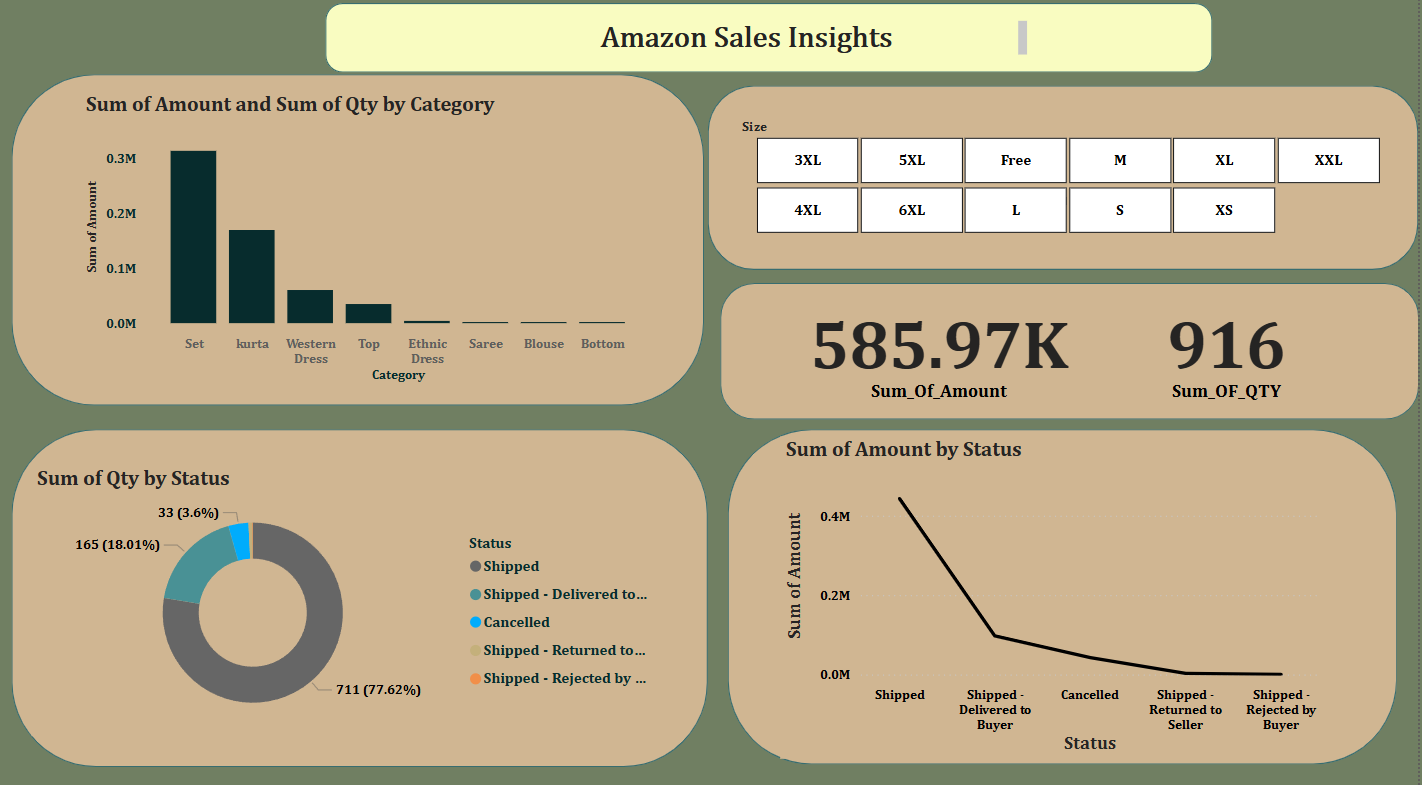

Layout of this report page (visuals, bound fields, positions):
{"tool":"powerbi","page":{"name":"Page 1","canvas":[1280,720],"ordinal":0},"visuals":[{"type":"shape","box":[11.6,73.3,624.4,298.8],"z":0,"group":"g4"},{"type":"shape","box":[650,261.6,630.2,123.3],"z":0,"group":"g5"},{"type":"card","fields":{"Values":["Amazon Sale Report.Sum_OF_QTY"]},"box":[981.8,265.9,250.4,110.2],"z":0,"group":"g2"},{"type":"shape","box":[11.6,393,627.9,304.7],"z":0,"group":"g3"},{"type":"group","id":"g1","title":"Group 1","box":[657,393,603.5,302.3],"z":0},{"type":"shape","box":[657,393,603.5,302.3],"z":0,"group":"g1"},{"type":"columnChart","fields":{"Y":["Sum(Amazon Sale Report.Amount)"],"Category":["Amazon Sale Report.Category"]},"box":[74.1,89,518.3,266.5],"z":1000,"group":"g4"},{"type":"group","id":"g2","title":"Group 4","box":[713.7,265.9,518.4,110.2],"z":1000,"group":"g5"},{"type":"card","fields":{"Values":["Amazon Sale Report.Sum_Of_Amount"]},"box":[713.7,265.9,268.1,110.2],"z":1000,"group":"g2"},{"type":"group","id":"g3","title":"Group 3","box":[11.6,393,627.9,304.7],"z":1000},{"type":"lineChart","fields":{"Y":["Sum(Amazon Sale Report.Amount)"],"Category":["Amazon Sale Report.Status"]},"box":[704.1,399.8,497.1,290],"z":1000,"group":"g1"},{"type":"donutChart","fields":{"Category":["Amazon Sale Report.Status"],"Y":["Sum(Amazon Sale Report.Qty)"]},"box":[29.5,425.5,567.4,244.2],"z":1000,"group":"g3"},{"type":"group","id":"g4","title":"Group 2","box":[11.6,73.3,624.4,298.8],"z":2000},{"type":"shape","box":[639.5,83.7,640.7,166.3],"z":2000},{"type":"slicer","fields":{"Values":["Amazon Sale Report.Size"]},"box":[657,108.1,611.6,115.1],"z":3000},{"type":"group","id":"g5","title":"Group 5","box":[650,261.6,630.2,123.3],"z":3000},{"type":"shape","box":[294.2,9.3,800,62.8],"z":4000},{"type":"textbox","box":[423.3,19.8,508.1,40.7],"z":5000}]}

Visuals, with their boxes in screenshot pixels (x1, y1, x2, y2), scaled from the page's 1280x720 canvas onto the 1422x785 screenshot:
shape: left=13, top=80, right=707, bottom=406
shape: left=722, top=285, right=1421, bottom=420
card - Amazon Sale Report.Sum_OF_QTY: left=1091, top=290, right=1369, bottom=410
shape: left=13, top=428, right=710, bottom=761
"Group 1" group: left=730, top=428, right=1400, bottom=758
shape: left=730, top=428, right=1400, bottom=758
columnChart - Sum(Amazon Sale Report.Amount) x Amazon Sale Report.Category: left=82, top=97, right=658, bottom=388
"Group 4" group: left=793, top=290, right=1369, bottom=410
card - Amazon Sale Report.Sum_Of_Amount: left=793, top=290, right=1091, bottom=410
"Group 3" group: left=13, top=428, right=710, bottom=761
lineChart - Sum(Amazon Sale Report.Amount) x Amazon Sale Report.Status: left=782, top=436, right=1334, bottom=752
donutChart - Amazon Sale Report.Status x Sum(Amazon Sale Report.Qty): left=33, top=464, right=663, bottom=730
"Group 2" group: left=13, top=80, right=707, bottom=406
shape: left=710, top=91, right=1421, bottom=273
slicer - Amazon Sale Report.Size: left=730, top=118, right=1409, bottom=243
"Group 5" group: left=722, top=285, right=1421, bottom=420
shape: left=327, top=10, right=1216, bottom=79
textbox: left=470, top=22, right=1035, bottom=66
